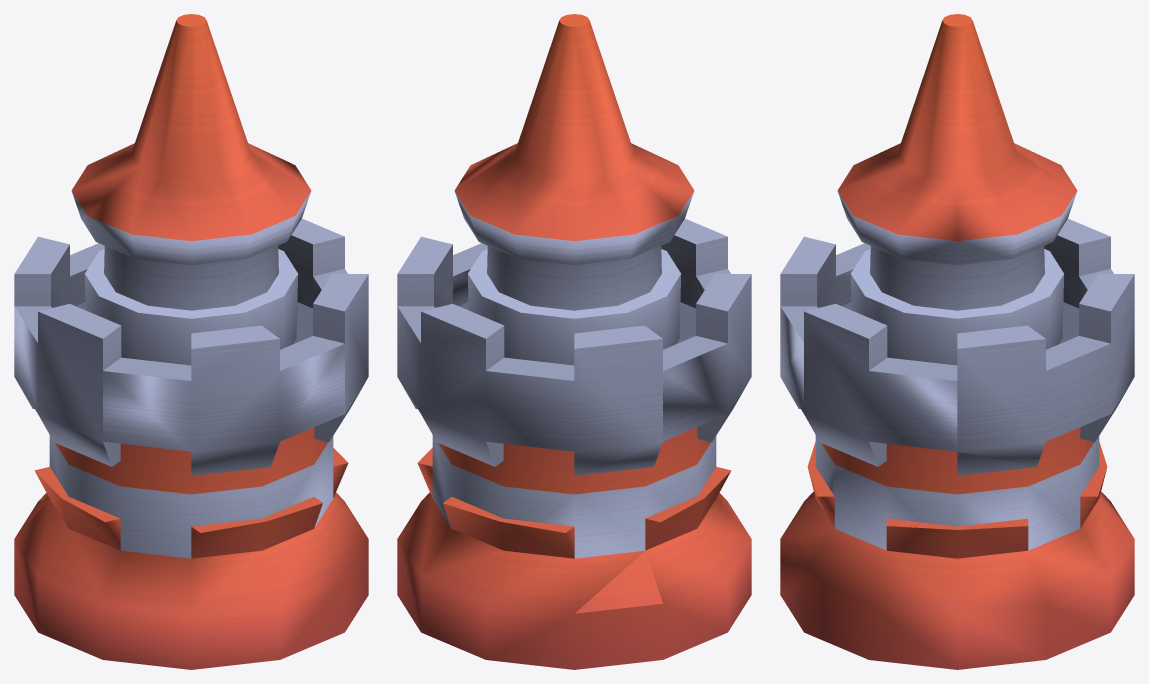
The model's file is tower-round-build-f.glb.
The picture shows the model from 3 angles, left to right: view 1: azimuth 30°, elevation 25°; view 2: azimuth 150°, elevation 25°; view 3: azimuth 270°, elevation 25°; orthographic projection.
Parts seen in each view (by area): view 1: tower-round-build-f; view 2: tower-round-build-f; view 3: tower-round-build-f.
Part boxes in pixels (<box>): tower-round-build-f: <box>14,14,368,669</box>; tower-round-build-f: <box>397,14,751,669</box>; tower-round-build-f: <box>780,14,1134,669</box>.
Bounding box in the file's own units: 1 × 1.79 × 1.
Materials: 1 (1 with a texture image).
